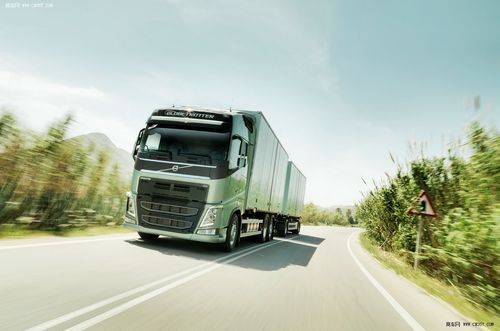卡车: (124, 100, 317, 265)
